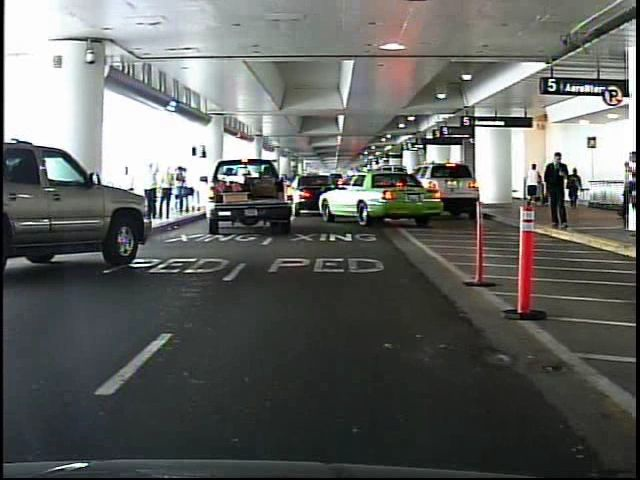person: (543, 146, 575, 235), (567, 168, 584, 212), (527, 161, 542, 208)
